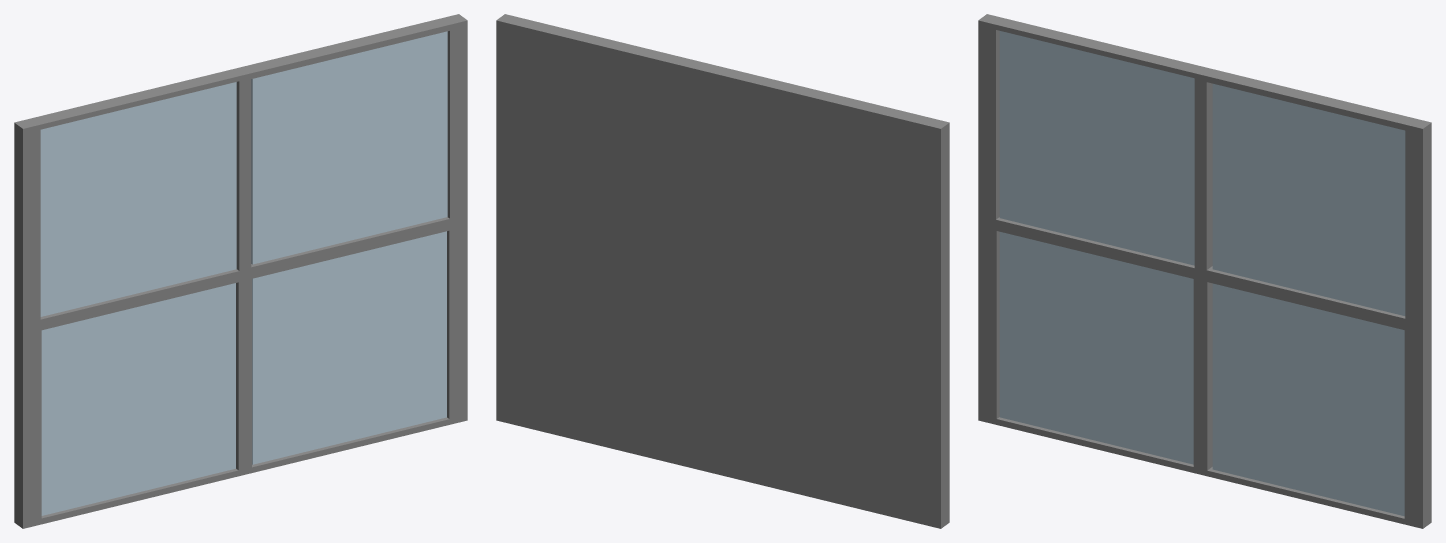
The model's file is ventana.fbx.
The picture shows the model from 3 angles, left to right: view 1: azimuth 30°, elevation 25°; view 2: azimuth 150°, elevation 25°; view 3: azimuth 330°, elevation 25°; orthographic projection.
Parts seen in each view (by area): view 1: Plane, Cube, Cube.001, Cube.002, Cube.003; view 2: Plane; view 3: Plane, Cube, Cube.003, Cube.001, Cube.002.
Part boxes in pixels (x1,y1,x2,y2): Plane: (14,14,467,528); Cube: (40,82,236,316); Cube.001: (251,31,447,264); Cube.002: (252,231,446,464); Cube.003: (41,283,235,515); Plane: (496,14,949,528); Plane: (978,14,1431,528); Cube: (999,31,1194,265); Cube.003: (999,232,1193,464); Cube.001: (1212,83,1405,315); Cube.002: (1212,283,1404,516).
Bounding box in the file's own units: 642 × 552 × 22.04.
